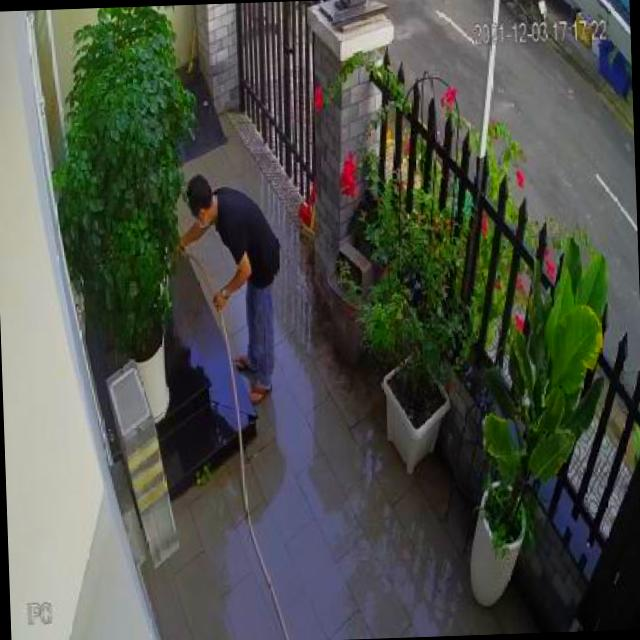Person: (184, 172, 286, 406)
